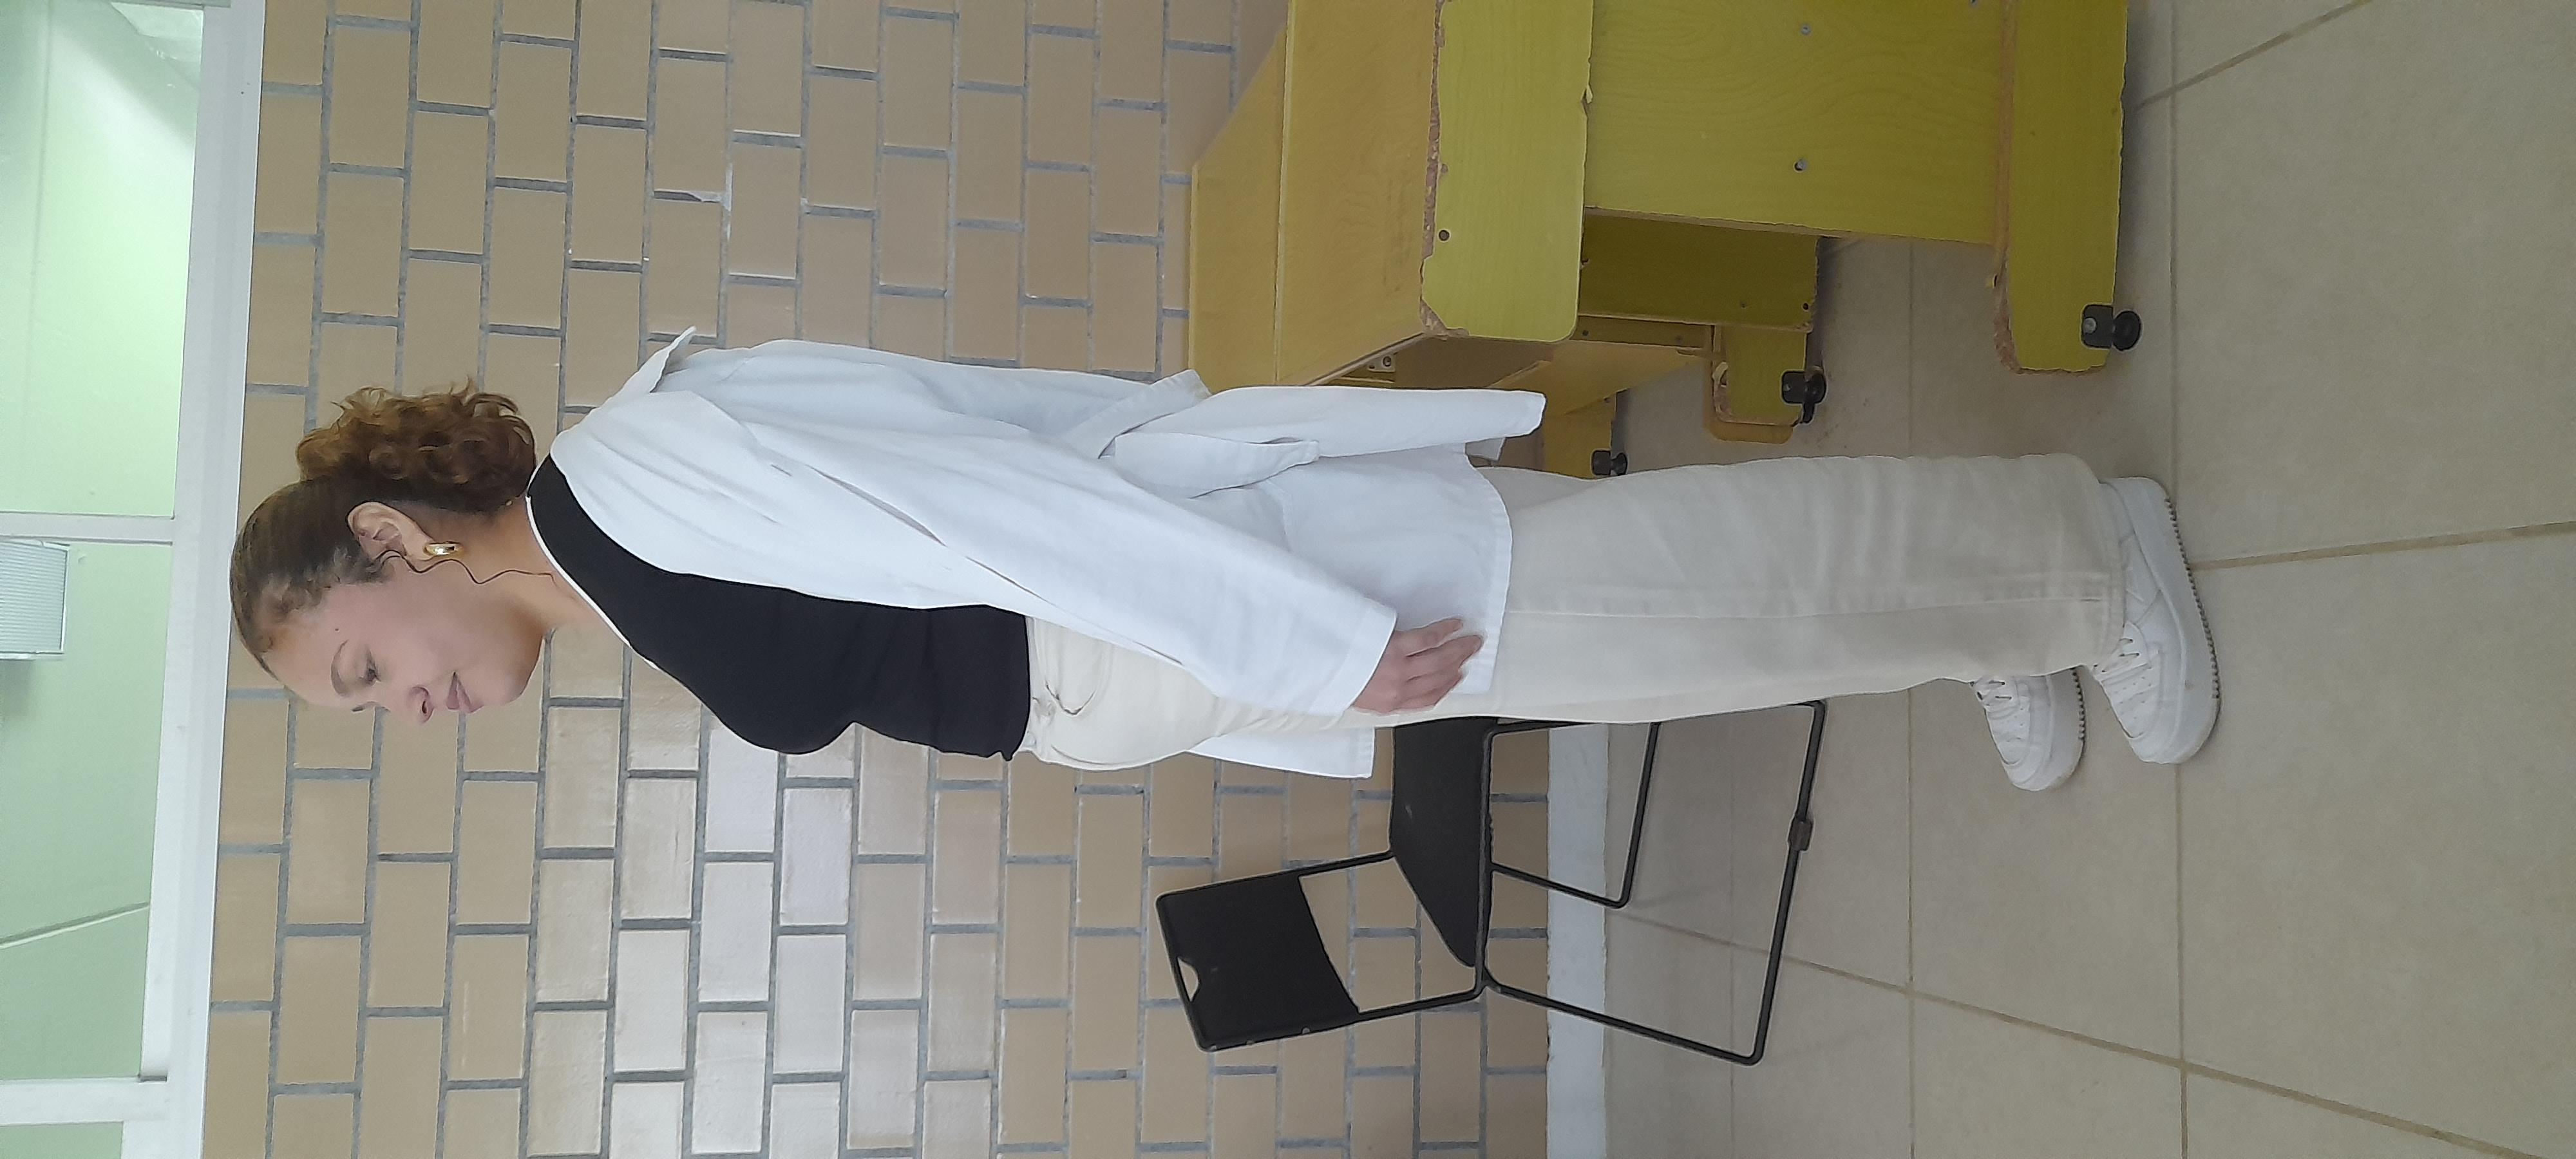Bata-Incorrecta: (616, 79, 1989, 1023)
